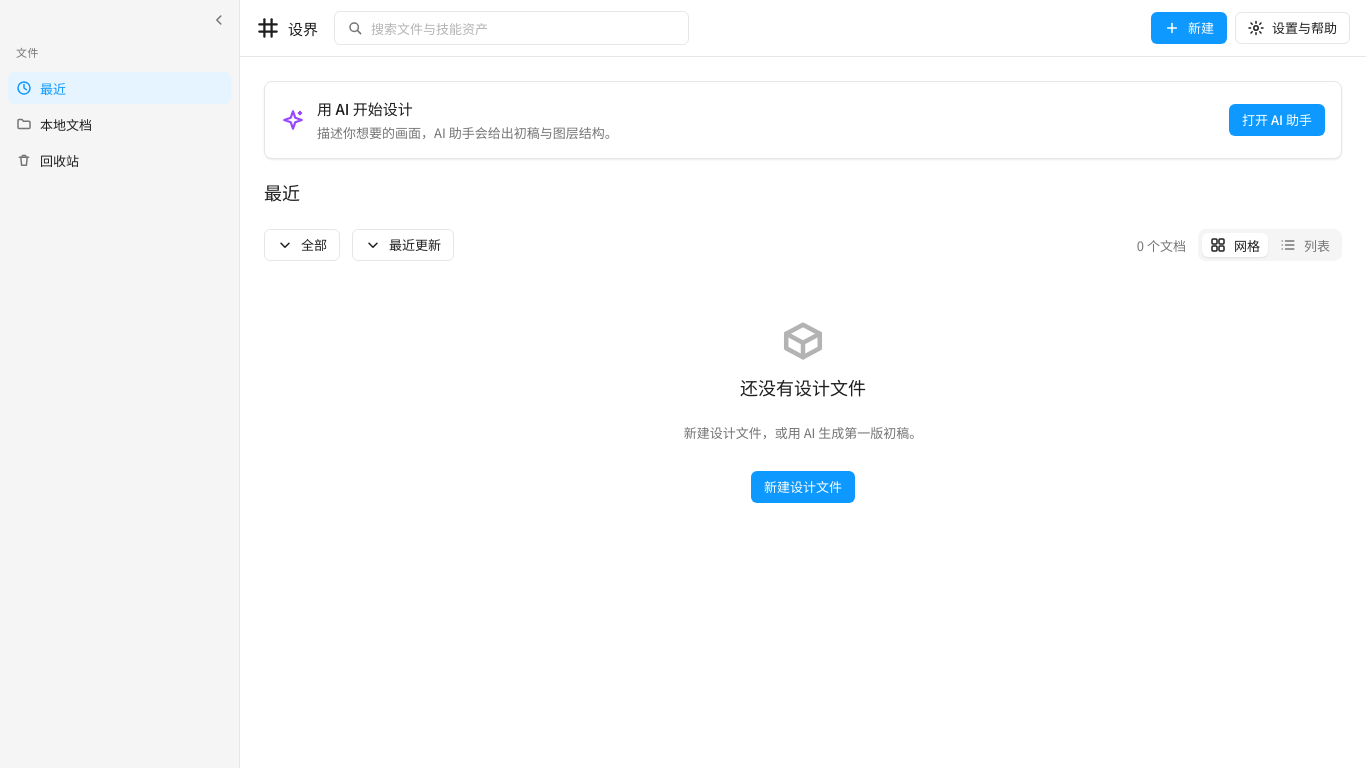
it: HomeView · 加载与三态 › 空目录 → 「还没有设计文件」空态，主按钮打开新建对话框
The width and height of the screenshot is (1366, 768).
Expected: the text "还没有设计文件" is shown, left=740, top=377, right=866, bottom=399
What coordinates should you click on to do the following:
click the button "新建设计文件"
I would click on:
 (803, 487)
Its box is left=751, top=471, right=855, bottom=503.
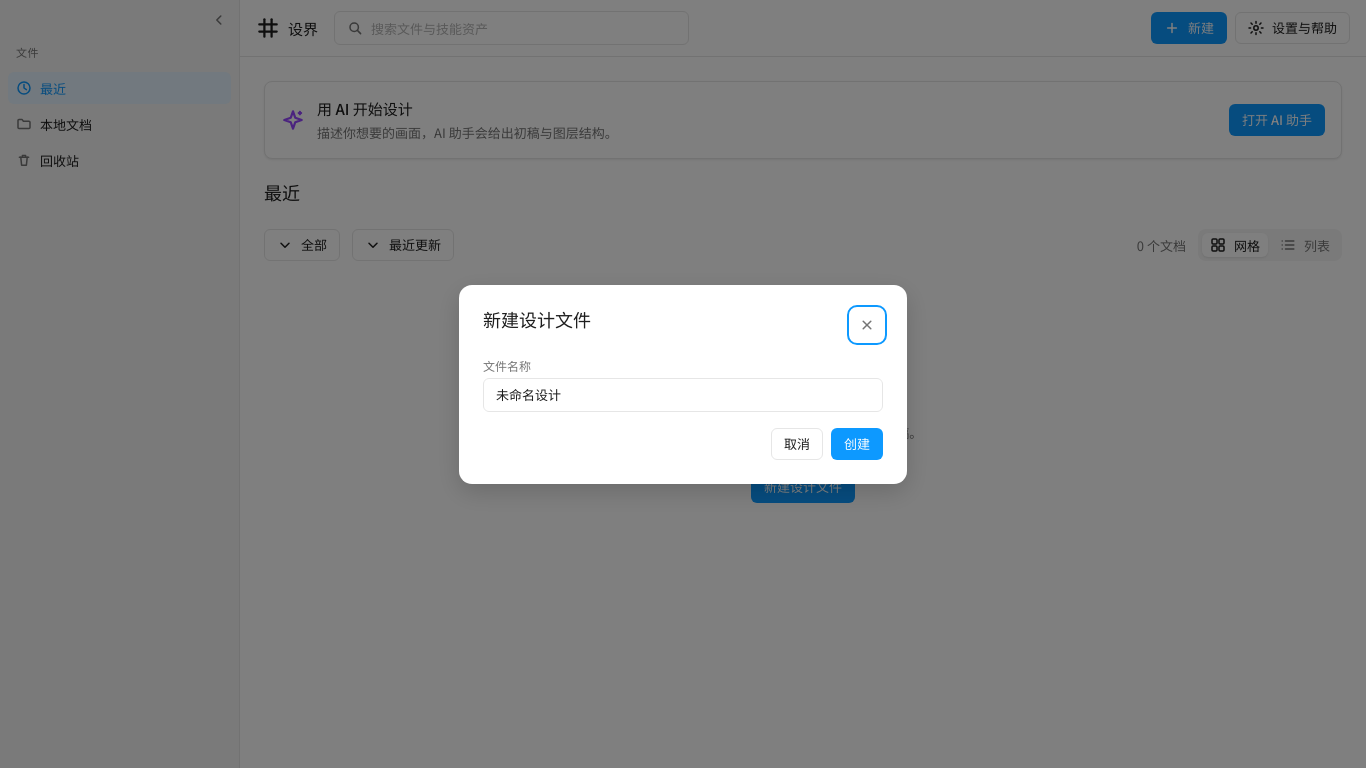
Now the dialog is shown, box left=459, top=284, right=907, bottom=484
Now the field labelled "文件名称" is shown, box left=496, top=378, right=870, bottom=410
